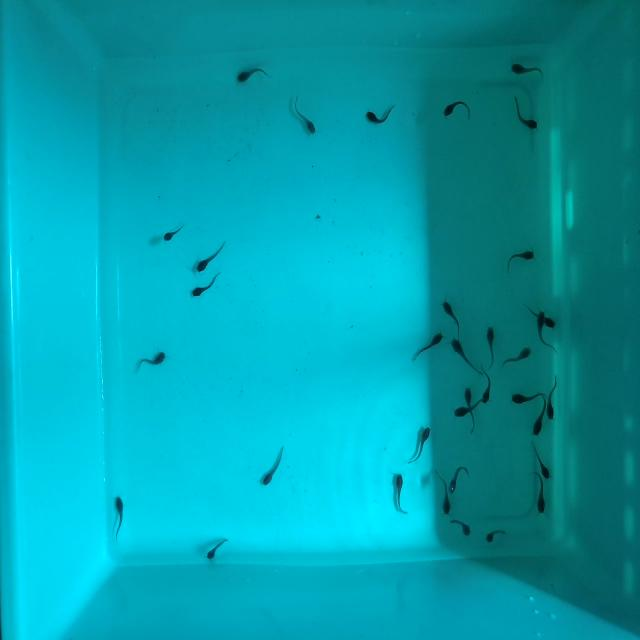lele: (286, 93, 320, 139), (449, 334, 480, 377), (261, 445, 289, 489), (407, 422, 433, 469), (438, 296, 465, 339), (534, 309, 557, 359), (510, 96, 541, 133), (194, 241, 227, 275), (411, 330, 446, 361), (528, 438, 552, 481), (435, 466, 455, 517), (530, 466, 549, 517), (190, 271, 221, 300), (446, 459, 469, 497), (530, 392, 549, 438), (452, 394, 484, 420), (235, 60, 268, 85), (504, 245, 537, 270), (525, 306, 557, 331), (365, 103, 398, 127), (500, 343, 533, 367), (137, 348, 168, 373), (442, 95, 472, 120), (511, 386, 546, 407), (463, 385, 478, 433), (450, 512, 474, 540), (160, 220, 187, 244), (544, 375, 557, 423), (205, 536, 229, 562), (509, 61, 544, 78), (395, 470, 407, 516), (484, 523, 508, 546), (114, 495, 124, 543), (486, 324, 496, 369), (482, 364, 492, 405)
